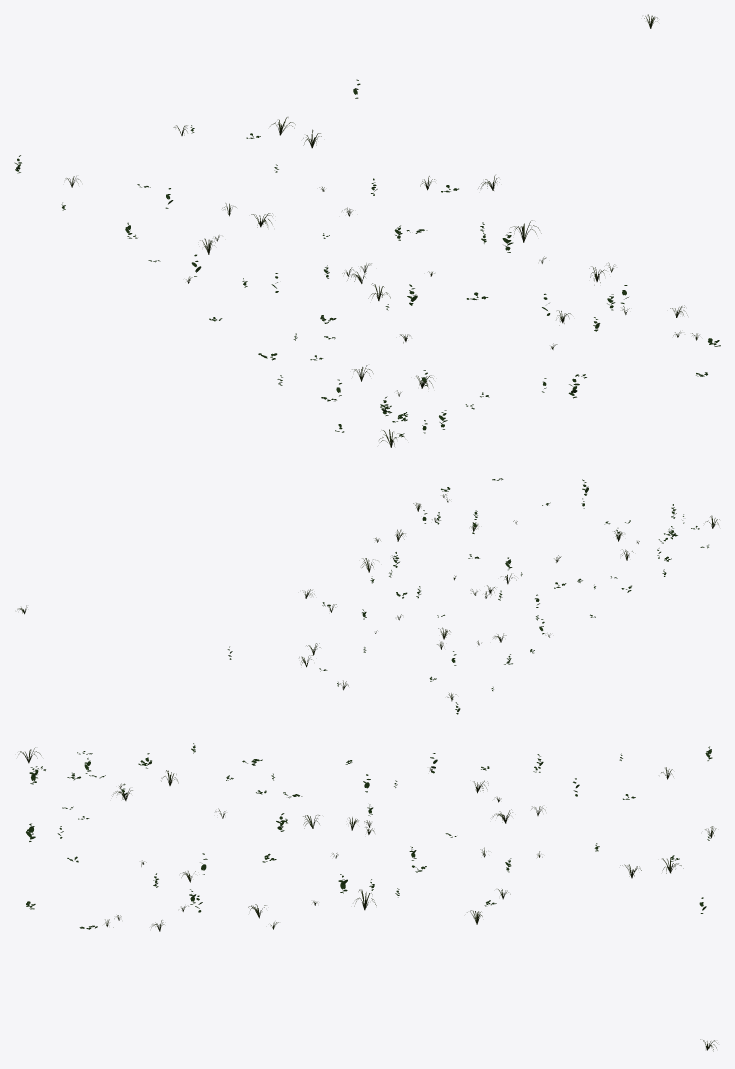
Rendered from weeds_+01-01_foliage.dae.
3 renders of one model, top to bottom at view 1: azimuth 30°, elevation 25°; view 2: azimuth 150°, elevation 25°; view 3: azimuth 270°, elevation 25°, orthographic. The views are drawn at different scales.
Parts seen in each view (by area): view 1: weeds_+01-01_foliage; view 2: weeds_+01-01_foliage; view 3: weeds_+01-01_foliage.
Boxes of the visible parts, x1,y1,x2,y2 form: weeds_+01-01_foliage: (14,14,720,447); weeds_+01-01_foliage: (17,478,719,714); weeds_+01-01_foliage: (18,743,717,1051).
Bounding box in the file's own units: 10.14 × 10.17 × 0.5255.
